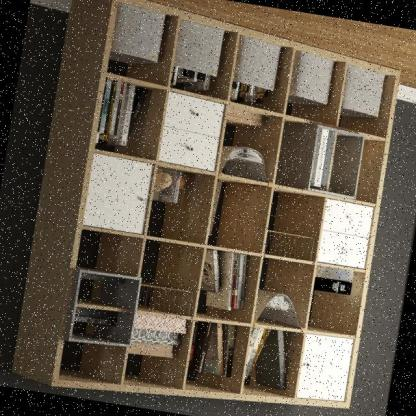Shelf: (4, 0, 409, 416)
